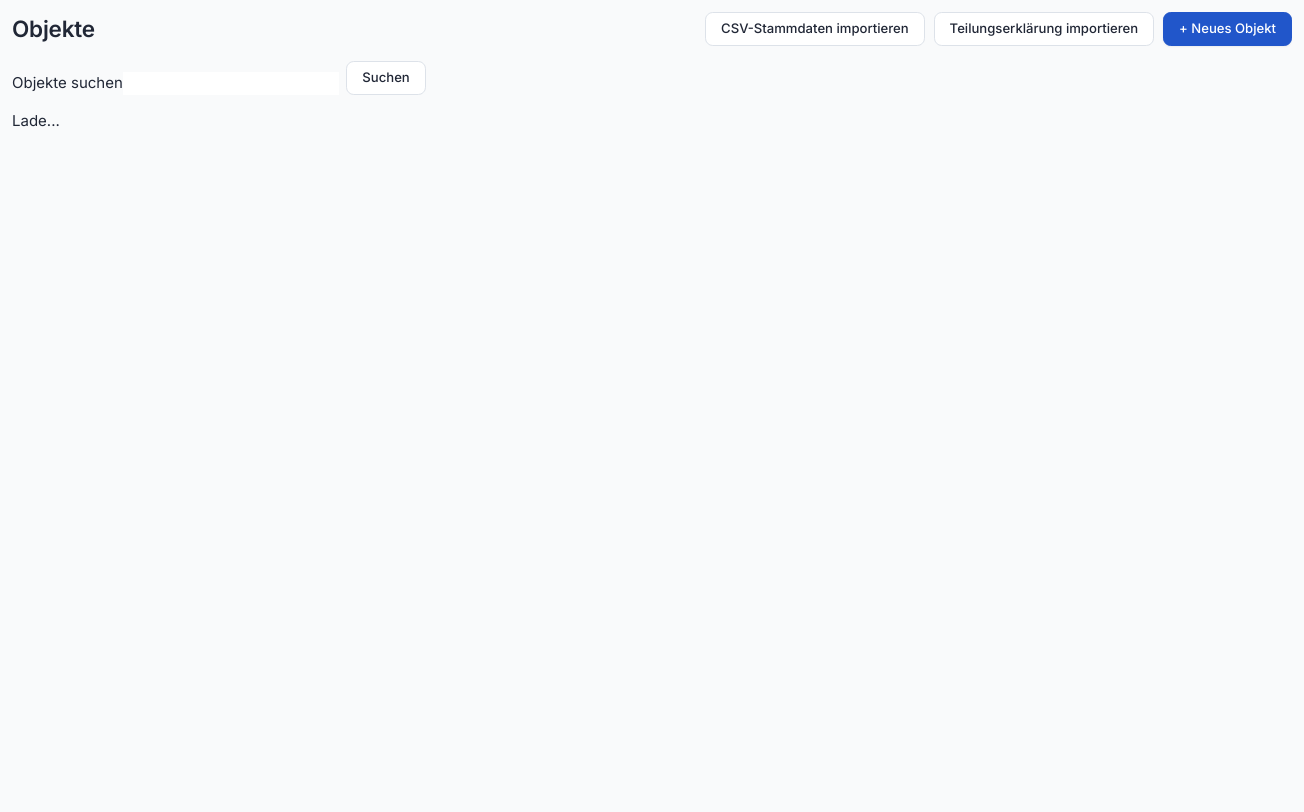
Test case: names the settlement start and shows the inclusive month pattern
The image size is (1304, 812).
Click the button "+ Neues Objekt". click: [1228, 29]
box: [1163,12,1292,46]
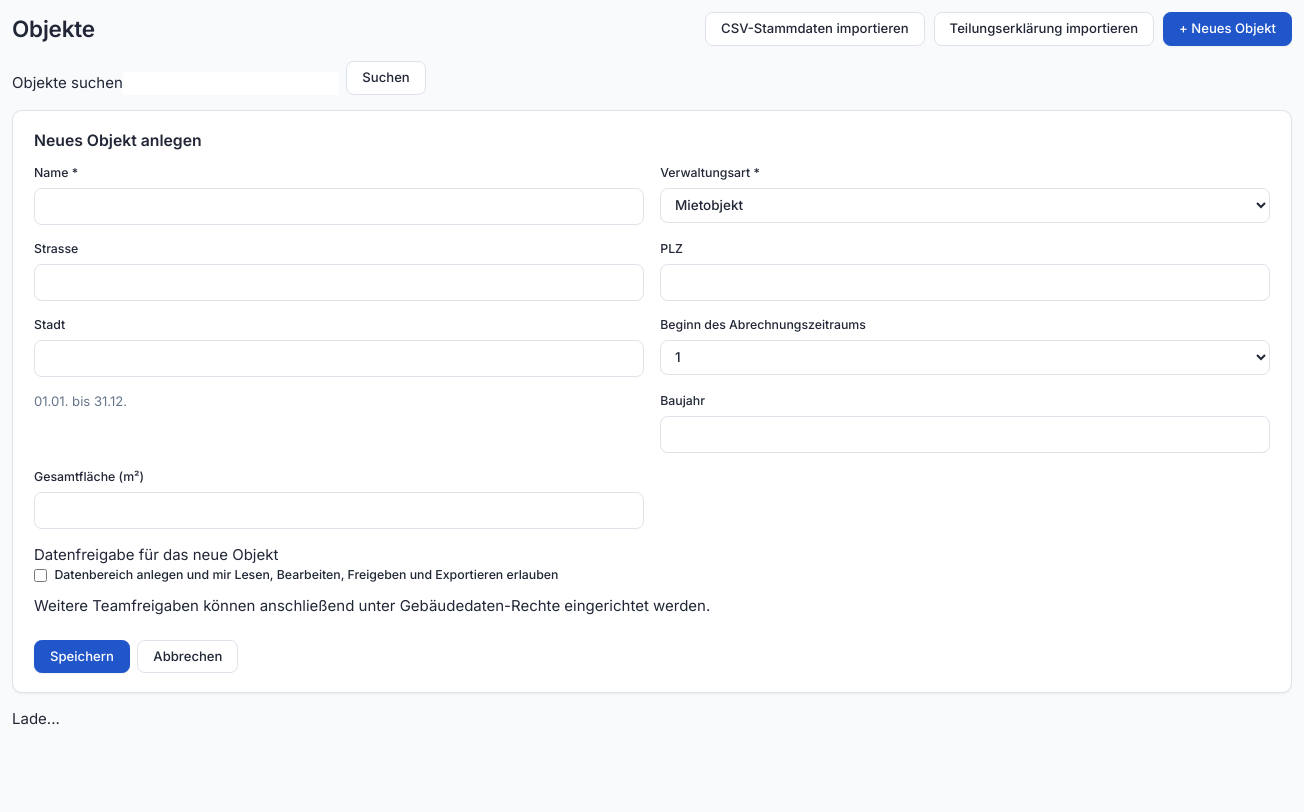
Select "4" in the dropdown labelled "Beginn des Abrechnungszeitraums". click: [965, 357]
box: [660,340,1270,375]
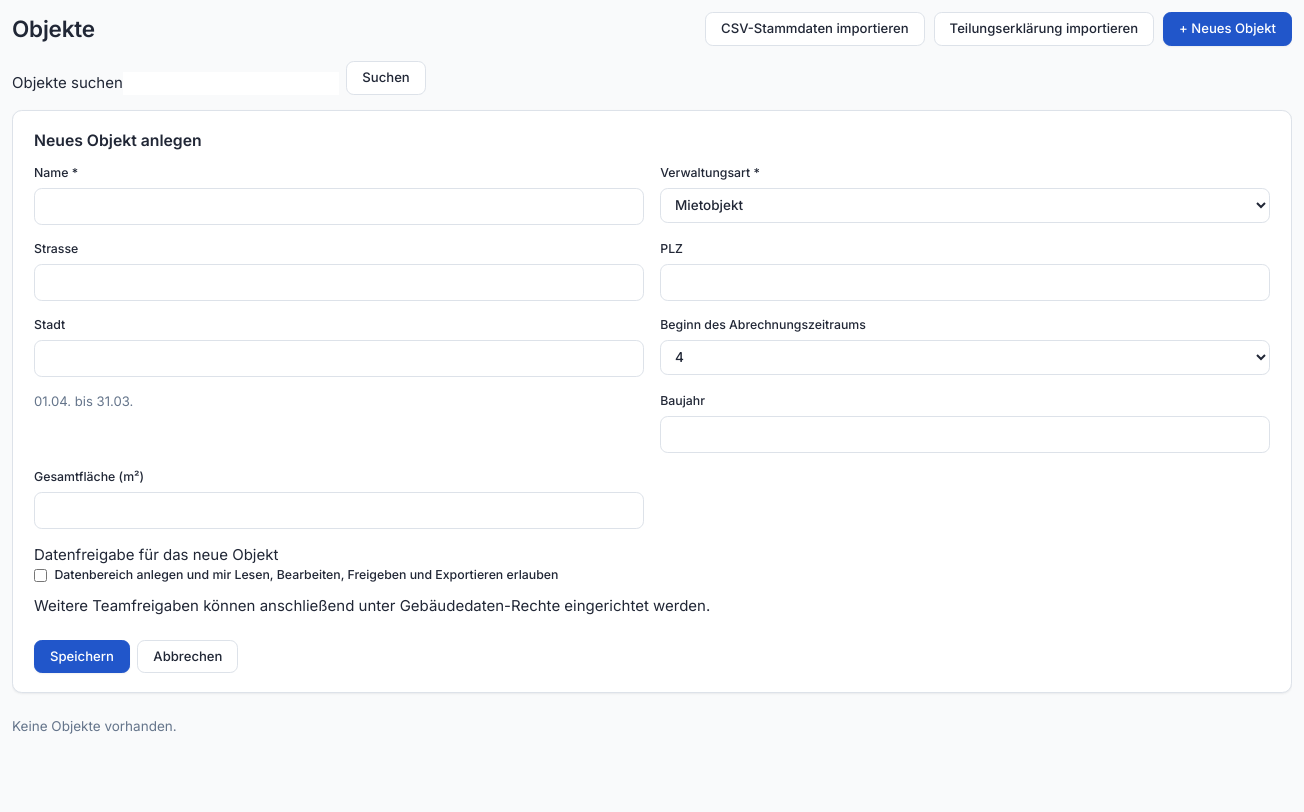
Result: the text "01.04. bis 31.03." is shown at [34,393,133,409]
